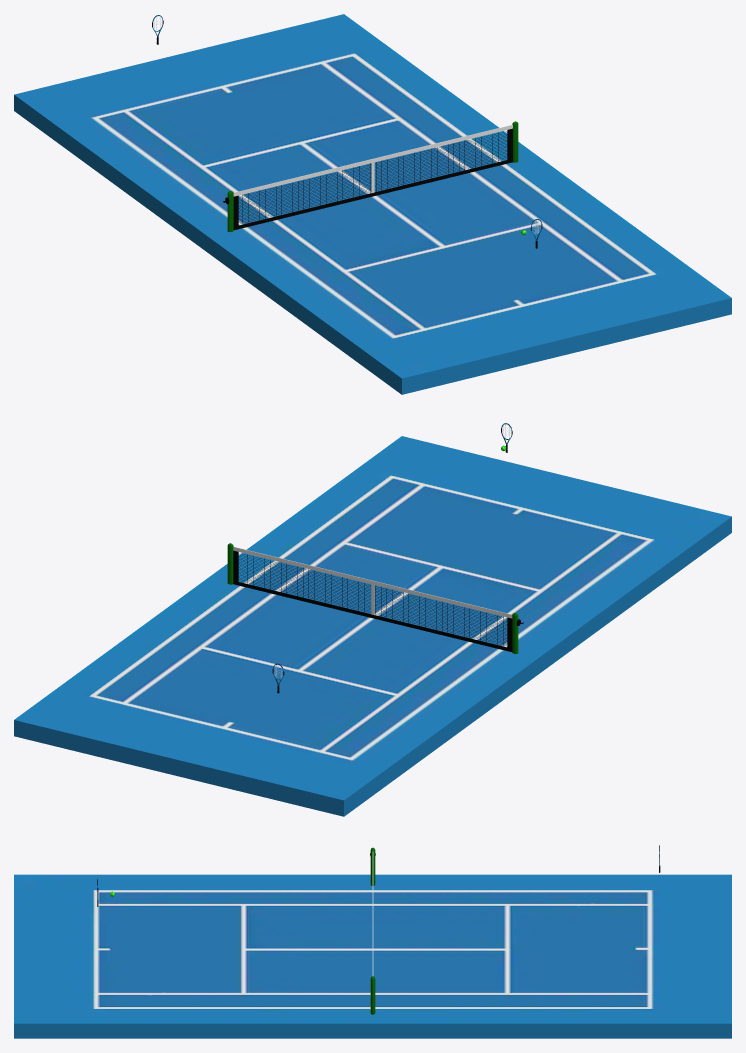
The model's file is tennis_court.glb.
3 views of the same model, one above another, from view 1: azimuth 30°, elevation 25°; view 2: azimuth 150°, elevation 25°; view 3: azimuth 270°, elevation 25° (orthographic). The views are drawn at different scales.
Parts seen in each view (by area): view 1: Court, Net; view 2: Court, Net; view 3: Court, Net.
Boxes of the visible parts, box(x1,y1,x2,y2) form: Court: box(14, 14, 731, 394); Net: box(223, 121, 518, 231); Court: box(14, 436, 731, 816); Net: box(227, 543, 523, 653); Court: box(14, 874, 731, 1038); Net: box(370, 847, 375, 1014).
Bounding box in the file's own units: 11.92 × 3.41 × 24.27.
Materials: 9 (3 with a texture image).
